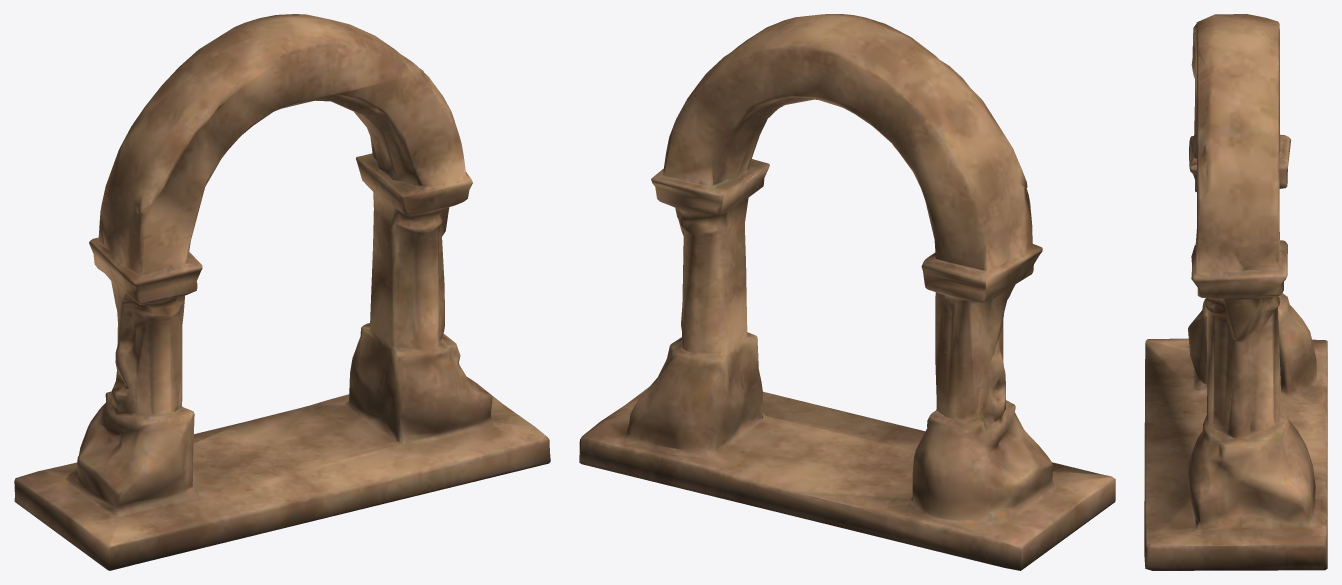
Rendered from chipped-sandstone-street-arch-v002.glb.
3 views of the same model, side by side, from view 1: azimuth 30°, elevation 25°; view 2: azimuth 150°, elevation 25°; view 3: azimuth 270°, elevation 25° (orthographic). The views are drawn at different scales.
Parts seen in each view (by area): view 1: chipped-sandstone-street-arch; view 2: chipped-sandstone-street-arch; view 3: chipped-sandstone-street-arch.
Boxes of the visible parts, left/top/right/bottom form: chipped-sandstone-street-arch: left=14, top=14, right=550, bottom=570; chipped-sandstone-street-arch: left=579, top=14, right=1115, bottom=570; chipped-sandstone-street-arch: left=1144, top=14, right=1327, bottom=570.
Size of the model in its own units: 3.56 by 3.51 by 1.33.
Materials: 1 (1 with a texture image).
